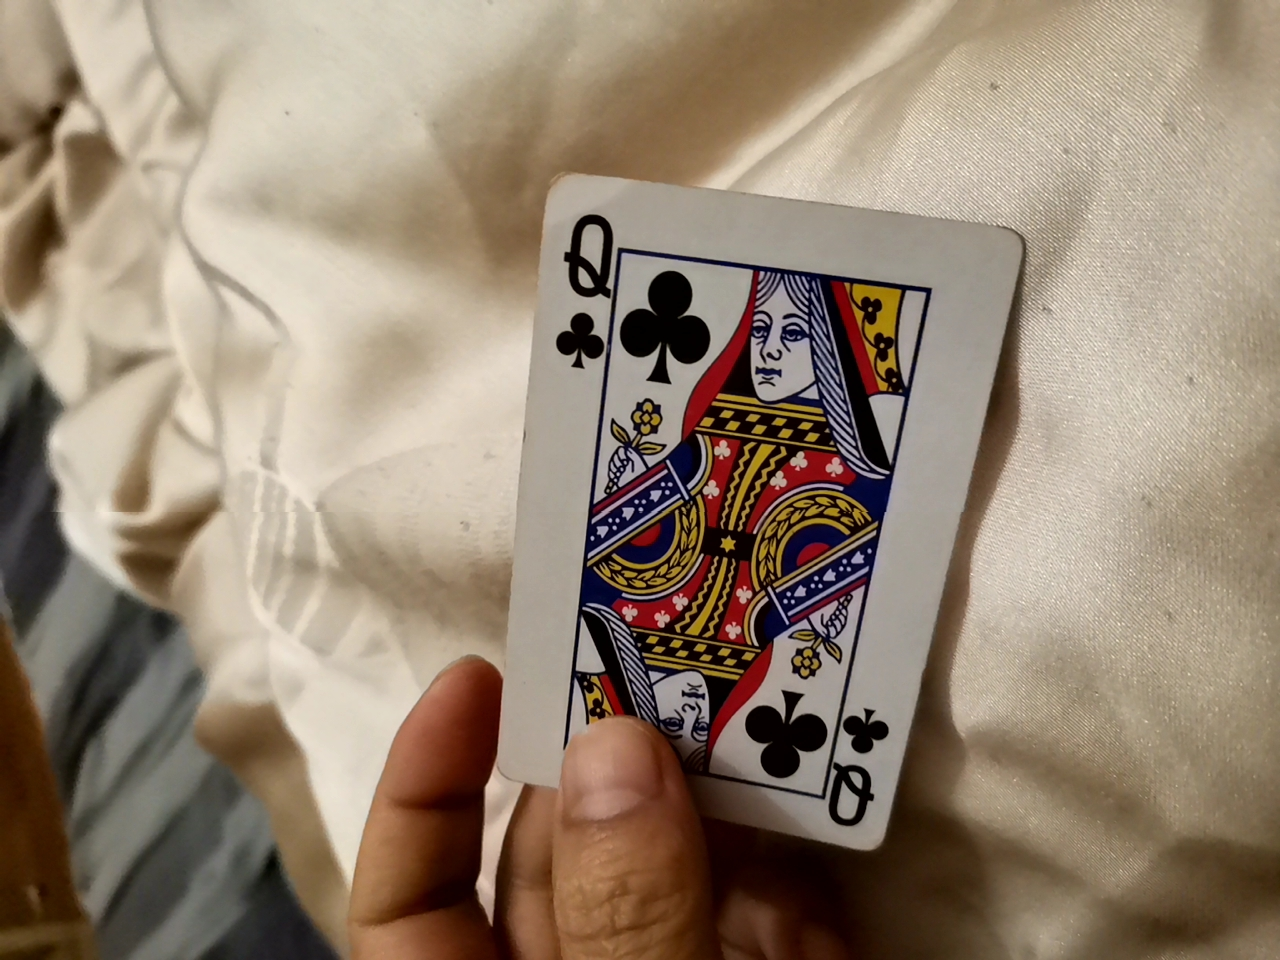mh q: (475, 168, 1032, 866)
